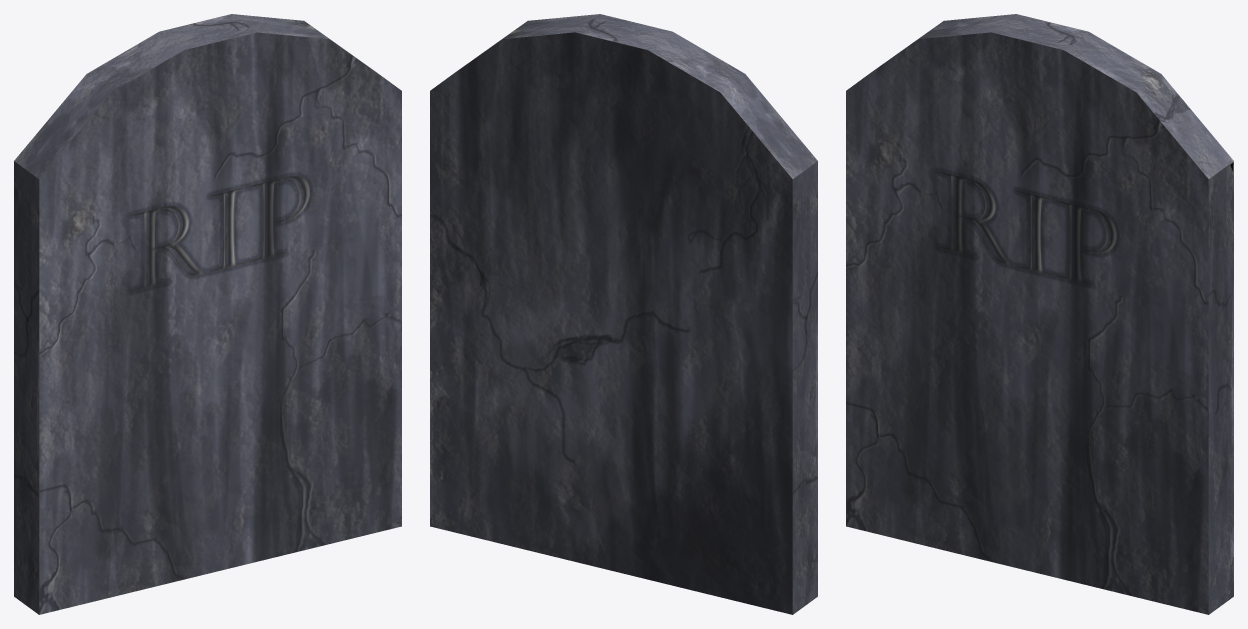
File: grave1.FBX
The picture shows the model from 3 angles, left to right: view 1: azimuth 30°, elevation 25°; view 2: azimuth 150°, elevation 25°; view 3: azimuth 330°, elevation 25°; orthographic projection.
Visible parts, largest first — view 1: grave1; view 2: grave1; view 3: grave1.
Part boxes in pixels (x1=…): grave1: x1=14, y1=14, x2=401, y2=614; grave1: x1=430, y1=14, x2=817, y2=614; grave1: x1=846, y1=14, x2=1233, y2=614.
Size of the model in its own units: 9.84 by 13.73 by 1.18.
1 material, 1 textured.
